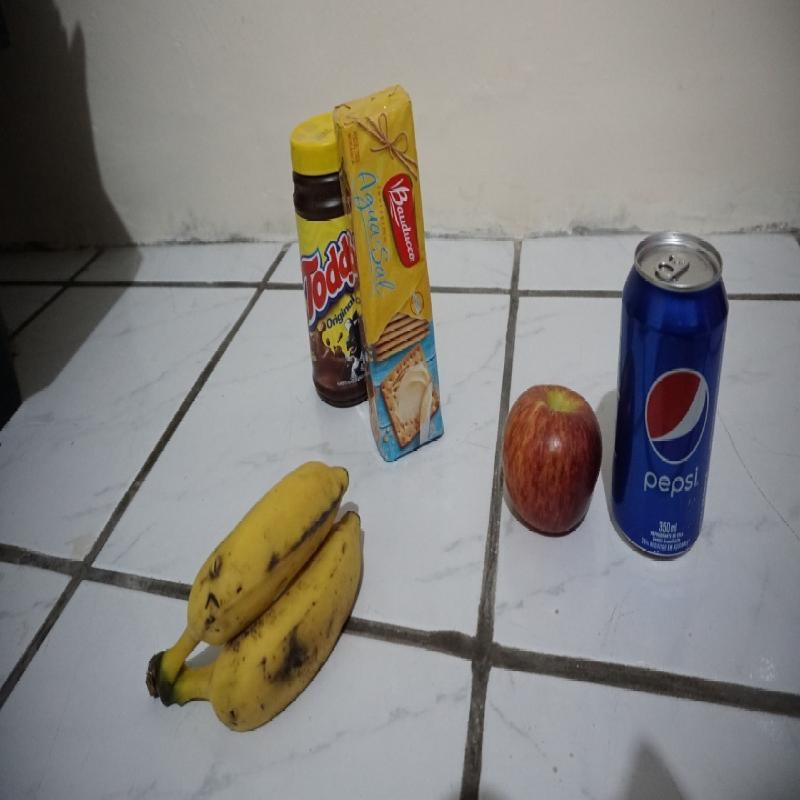Apple: (501, 381, 604, 539)
Banana: (146, 460, 364, 735)
Chocolate Powder: (287, 110, 376, 411)
Cracker: (334, 82, 446, 463)
Soda can: (610, 231, 730, 562)
